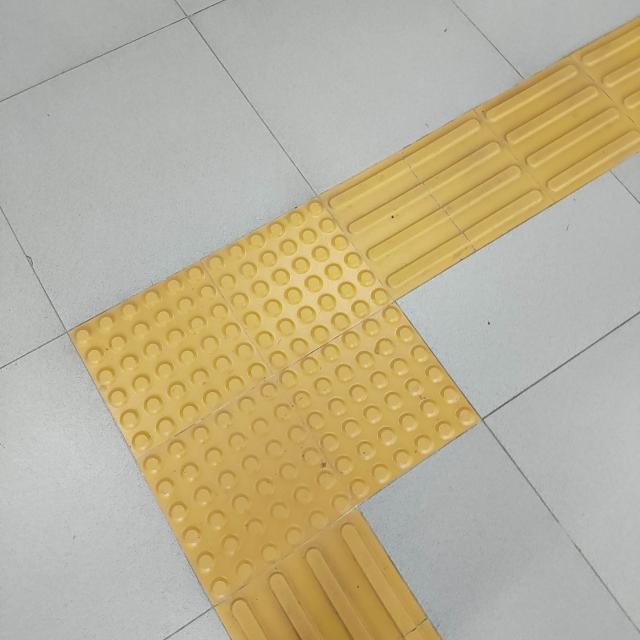kanan: (11, 148, 640, 610)
